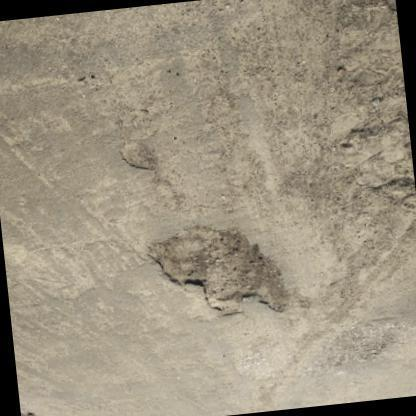pothole: (146, 219, 296, 318), (325, 313, 415, 378), (119, 136, 168, 174)
